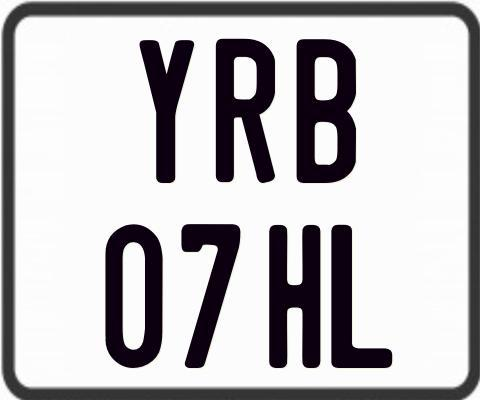0: (102, 224, 166, 371)
7: (180, 222, 242, 366)
B: (294, 36, 357, 185)
H: (268, 224, 321, 372)
L: (328, 222, 391, 365)
R: (213, 38, 278, 186)
Y: (138, 40, 196, 183)
